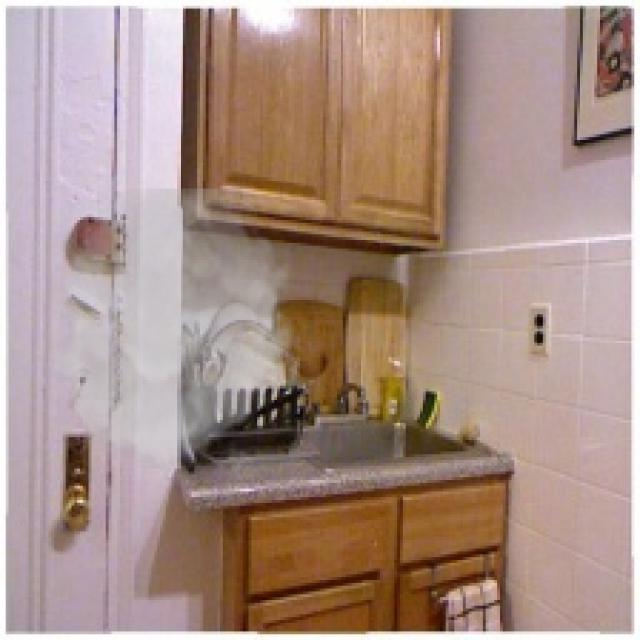smoke: (40, 188, 303, 468)
